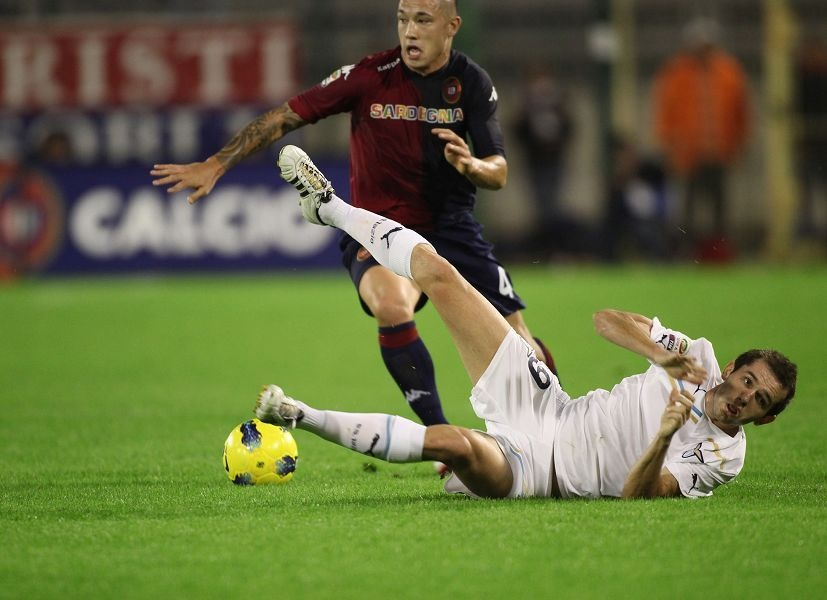falling: (238, 157, 827, 499)
